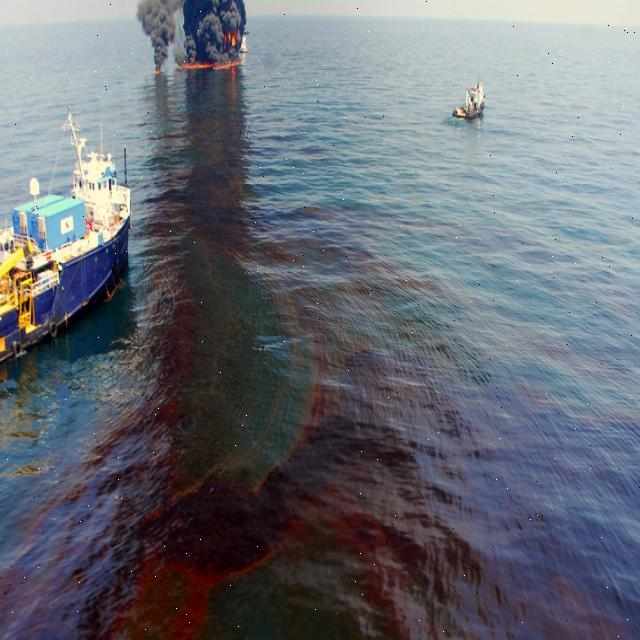truecolor: (0, 80, 552, 638)
